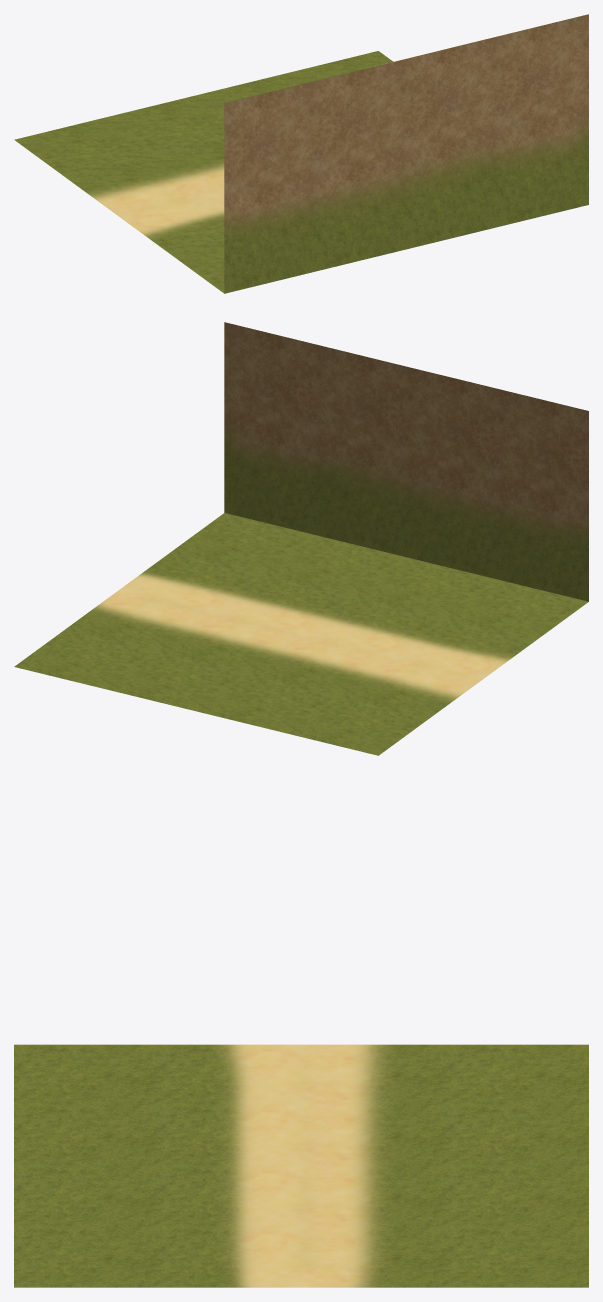
File: SM_Floor.FBX
3 views of the same model, one above another, from view 1: azimuth 30°, elevation 25°; view 2: azimuth 150°, elevation 25°; view 3: azimuth 270°, elevation 25° (orthographic). The views are drawn at different scales.
Parts seen in each view (by area): view 1: Box001; view 2: Box001; view 3: Box001.
Part boxes in pixels (bbox=[...]): Box001: bbox=[14, 14, 588, 293]; Box001: bbox=[14, 322, 588, 755]; Box001: bbox=[14, 1044, 588, 1287].
Size of the model in its own units: 4000 by 2000 by 4000.
